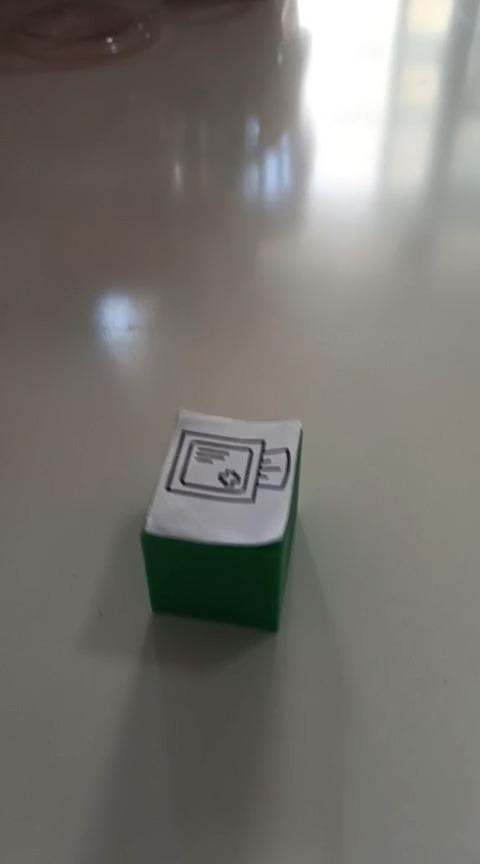Gauze: (139, 407, 303, 632)
